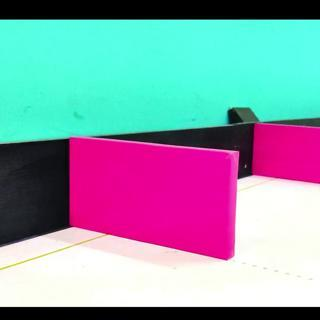xparking: (77, 154, 234, 250), (259, 129, 317, 181)
